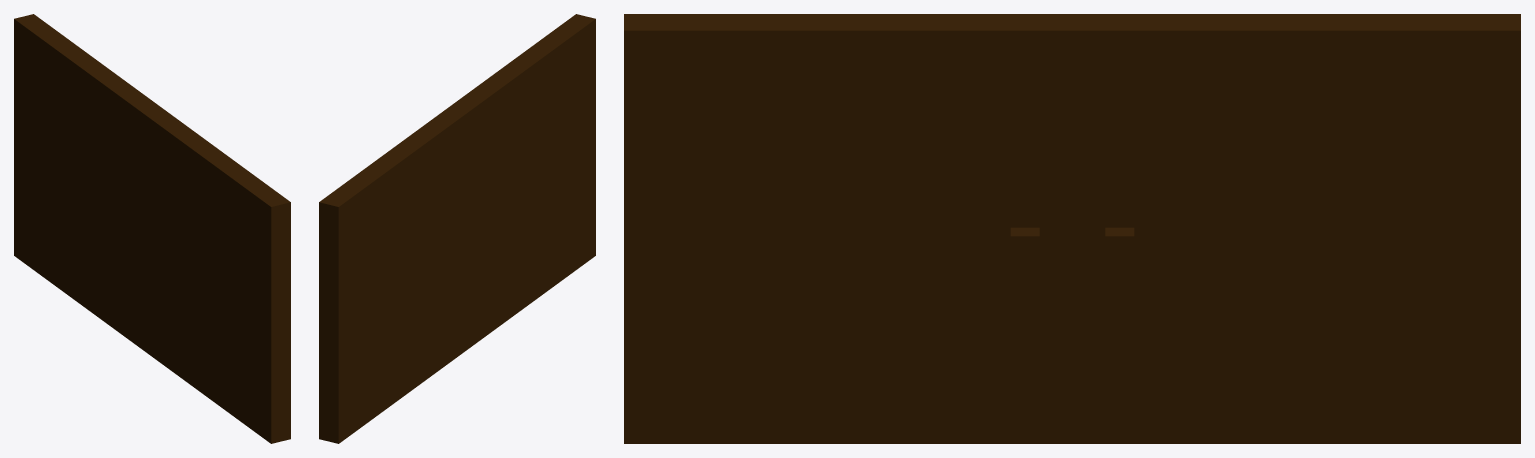
Rendered from Porte.fbx.
3 renders of one model, left to right at view 1: azimuth 30°, elevation 25°; view 2: azimuth 150°, elevation 25°; view 3: azimuth 270°, elevation 25°, orthographic. The views are drawn at different scales.
Visible parts, largest first — view 1: Cube; view 2: Cube; view 3: Cube.
Boxes of the visible parts, <box> form: Cube: <box>14,14,290,443</box>; Cube: <box>319,14,595,443</box>; Cube: <box>624,14,1520,443</box>.
Bounding box in the file's own units: 81.95 × 619 × 1217.
